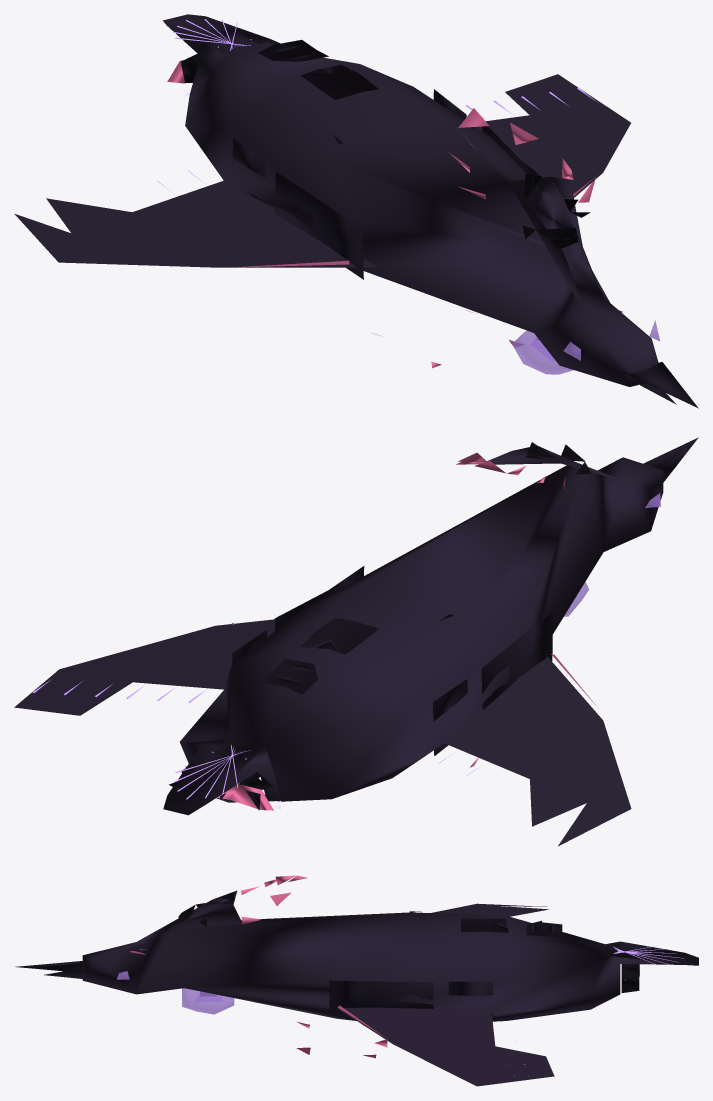
File: choral-piesniarze-hawk-2-lod2.glb
3 views of the same model, one above another, from view 1: azimuth 30°, elevation 25°; view 2: azimuth 150°, elevation 25°; view 3: azimuth 270°, elevation 25° (orthographic). The views are drawn at different scales.
Bounding box in the file's own units: 60.83 × 25.67 × 96.34.
